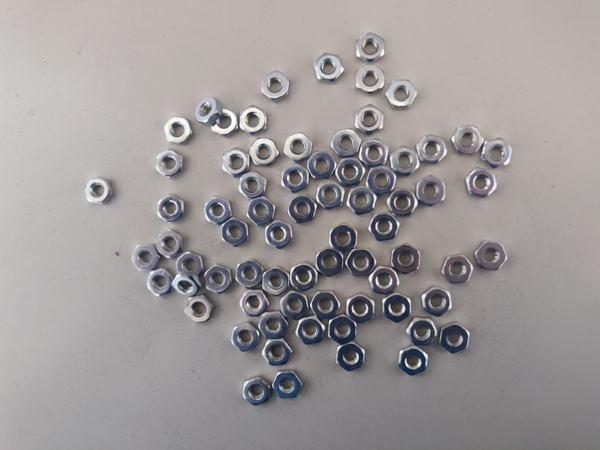nut: (475, 241, 508, 273), (442, 254, 474, 286), (422, 286, 454, 318), (439, 323, 471, 355), (406, 317, 438, 349), (397, 345, 429, 377), (336, 341, 367, 374), (328, 314, 359, 347), (355, 31, 386, 63), (388, 188, 419, 219), (367, 165, 398, 196), (466, 168, 497, 198), (481, 138, 512, 168), (417, 134, 448, 164), (417, 176, 448, 206), (355, 105, 386, 135), (386, 78, 417, 108), (355, 64, 386, 94), (283, 132, 314, 162), (359, 138, 390, 168), (390, 145, 421, 175), (346, 186, 377, 216), (335, 156, 366, 186), (330, 129, 361, 159), (273, 371, 303, 401), (262, 338, 292, 368), (295, 317, 325, 347), (346, 294, 376, 324), (391, 244, 421, 274), (370, 212, 400, 242), (453, 125, 483, 155), (315, 53, 345, 83), (238, 105, 268, 135), (249, 137, 279, 167), (280, 163, 310, 193), (289, 262, 319, 292), (235, 260, 265, 290), (261, 267, 291, 297), (260, 71, 291, 100), (287, 195, 318, 224), (264, 221, 295, 250), (329, 224, 360, 253), (154, 149, 185, 178), (203, 196, 234, 225), (220, 217, 251, 246), (247, 197, 278, 226), (237, 170, 268, 199), (243, 377, 272, 407), (231, 323, 260, 353), (383, 292, 412, 322), (315, 248, 345, 277), (370, 266, 400, 295), (157, 194, 187, 223), (163, 115, 193, 144), (312, 290, 341, 320), (204, 264, 233, 294), (84, 176, 114, 205), (346, 249, 377, 277), (241, 289, 270, 318), (222, 148, 252, 176), (307, 152, 337, 180), (316, 181, 346, 209), (186, 295, 214, 324), (195, 96, 223, 124), (212, 108, 240, 136), (260, 311, 288, 339), (147, 268, 174, 297), (280, 292, 306, 322), (156, 229, 182, 258), (133, 243, 159, 272), (155, 229, 181, 258), (177, 251, 204, 278), (173, 272, 200, 299)
